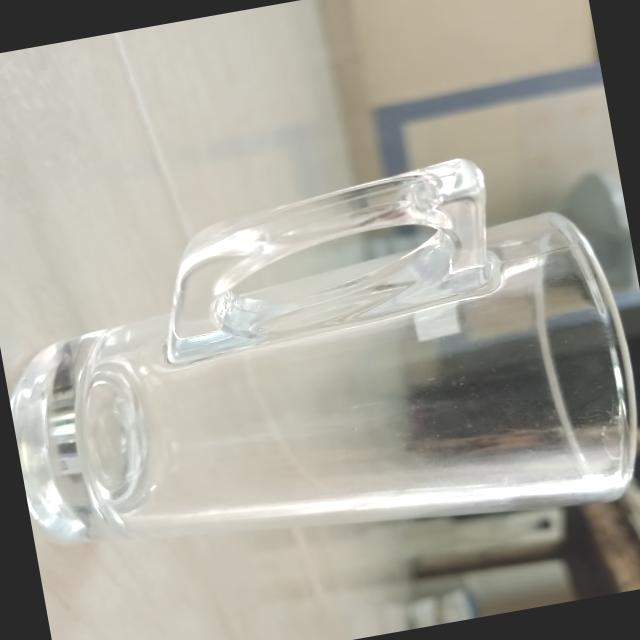glass-VX4N: (0, 131, 640, 590)
